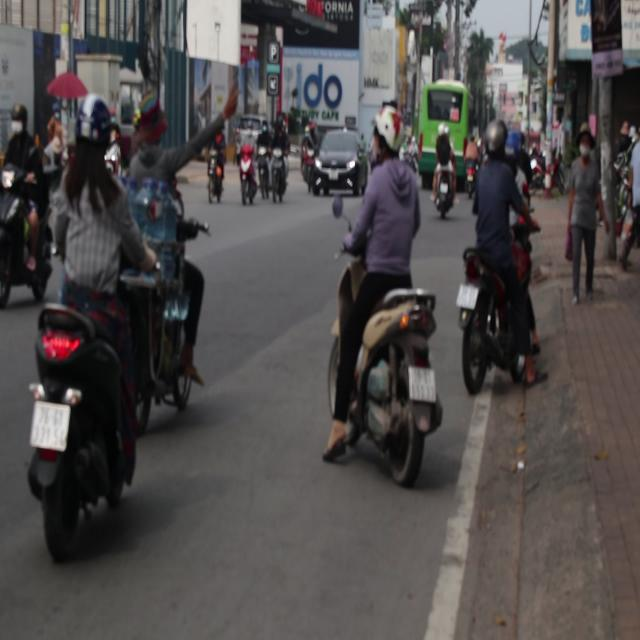bus: (418, 81, 473, 168)
car: (304, 128, 365, 196), (238, 110, 266, 162)
motorbike: (21, 296, 140, 555), (335, 262, 450, 504), (458, 241, 560, 399), (114, 237, 202, 413), (0, 162, 45, 300), (192, 140, 229, 218), (423, 148, 451, 222), (458, 158, 481, 212), (272, 151, 288, 215), (256, 148, 271, 210), (240, 145, 252, 218)
